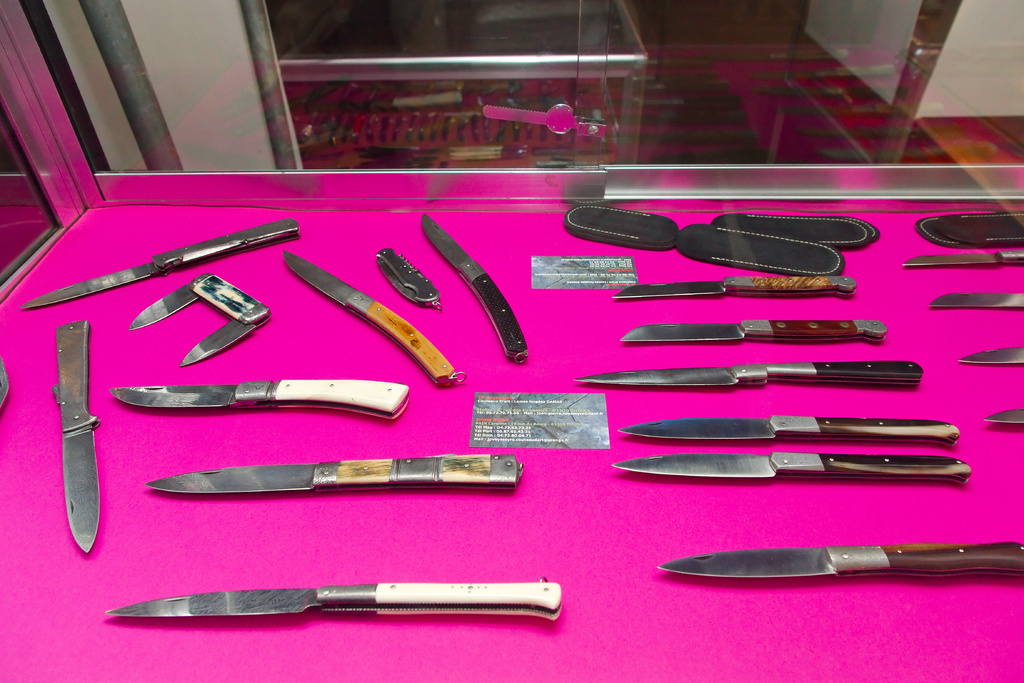kitchen knife: (17, 215, 298, 308), (284, 246, 461, 383), (105, 579, 561, 625), (424, 212, 531, 361), (145, 455, 521, 492), (108, 383, 408, 424), (54, 316, 103, 555)
